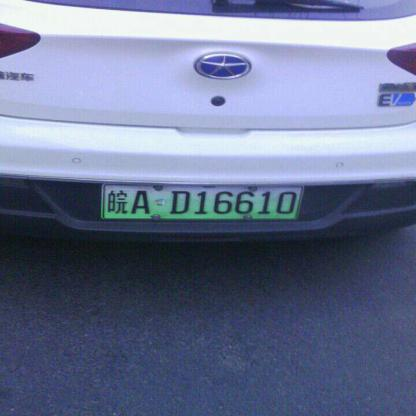lp: (103, 183, 302, 218)
